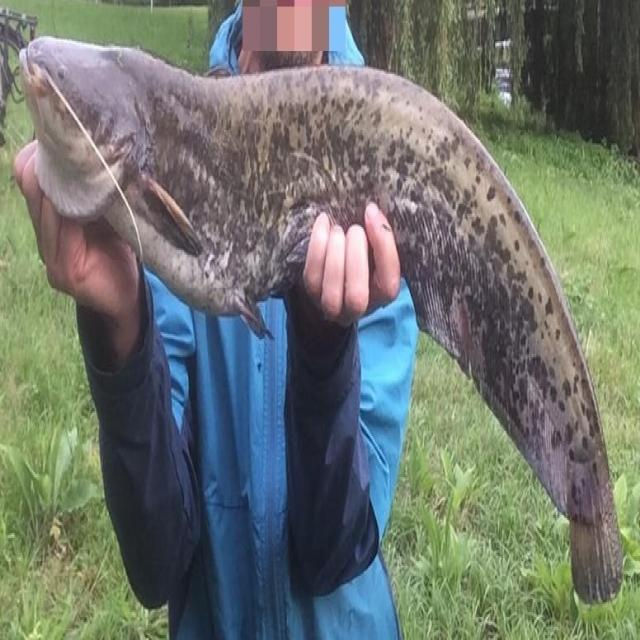Catfish: (13, 33, 632, 621)
